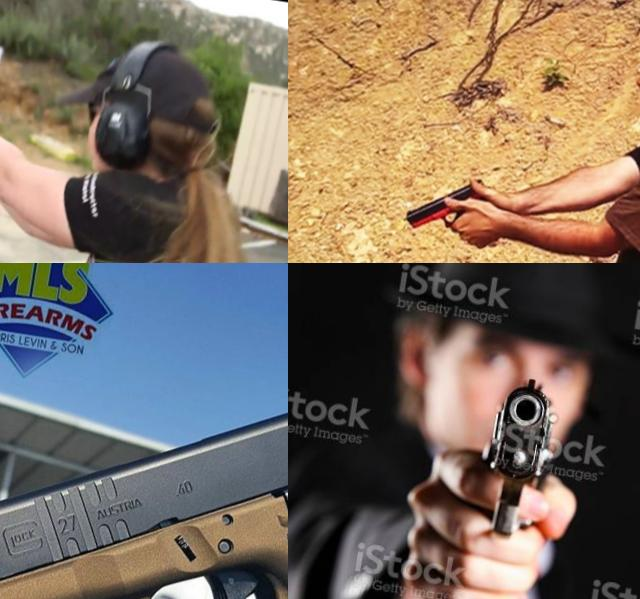handgun: (0, 294, 288, 599), (448, 368, 570, 599), (401, 166, 493, 239), (0, 62, 37, 144)
